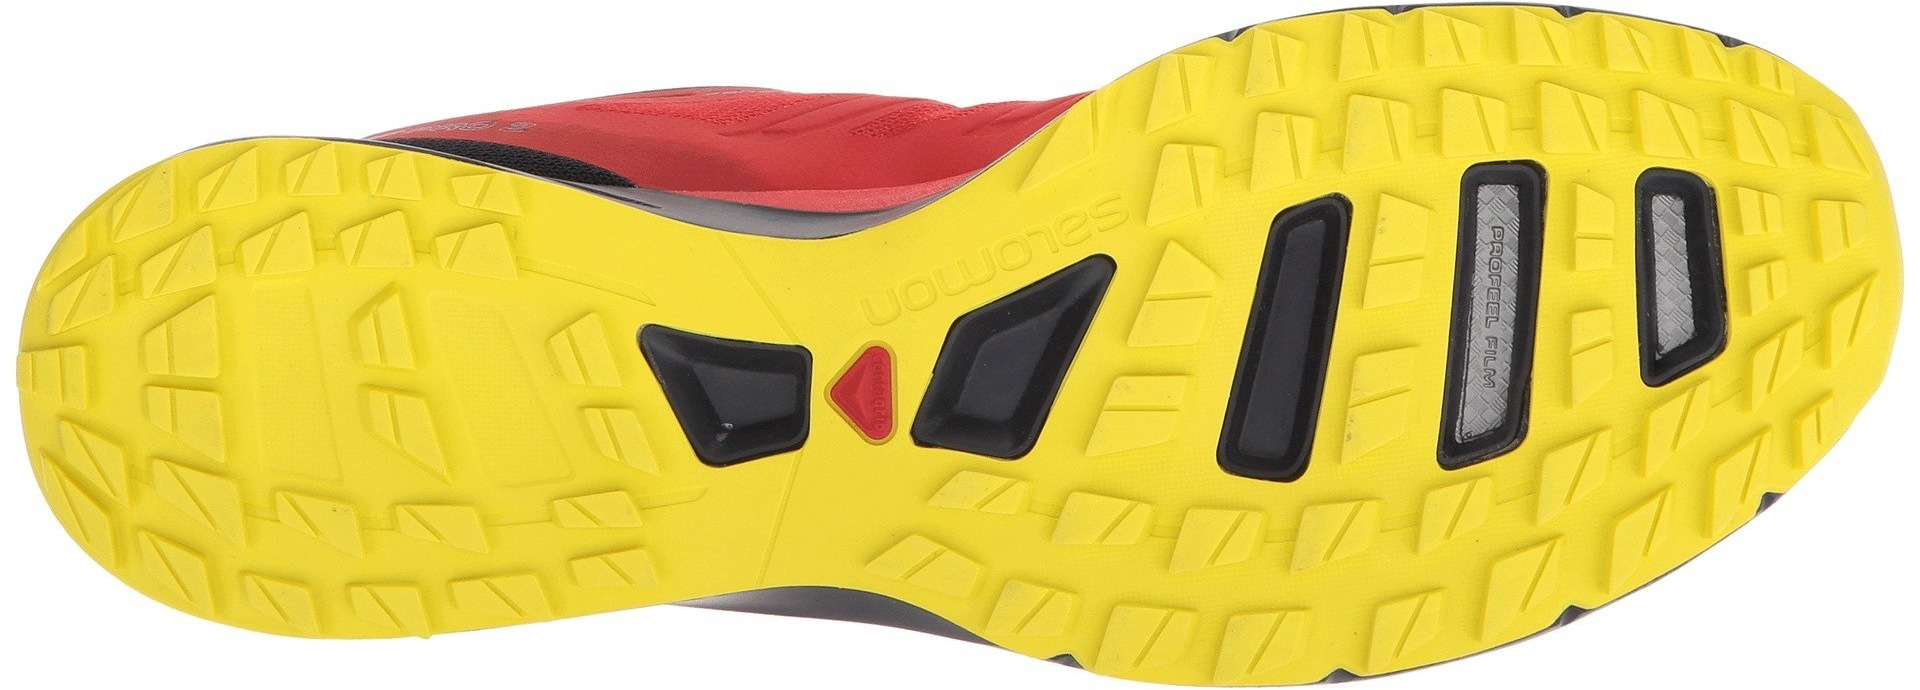line: (927, 451, 1397, 623)
quad: (927, 451, 1397, 623), (1427, 81, 1615, 480), (36, 188, 246, 378), (320, 274, 482, 492)
text: (1427, 81, 1615, 480)
triangle: (36, 188, 246, 378), (813, 327, 909, 454)
